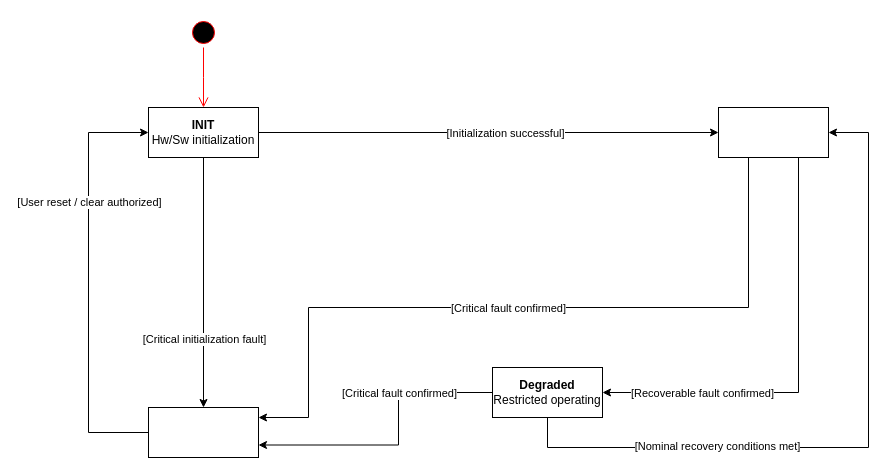
Image size: 894x475. Some labels were removed from this diagram. The shapes that lost their labels are listed below. From the top down, each one's centre as x and y in pixels, then its label:
point (773, 132): NORMAL Nominal operating mode.
point (203, 432): FAULT LATCHED Critical fault latched
